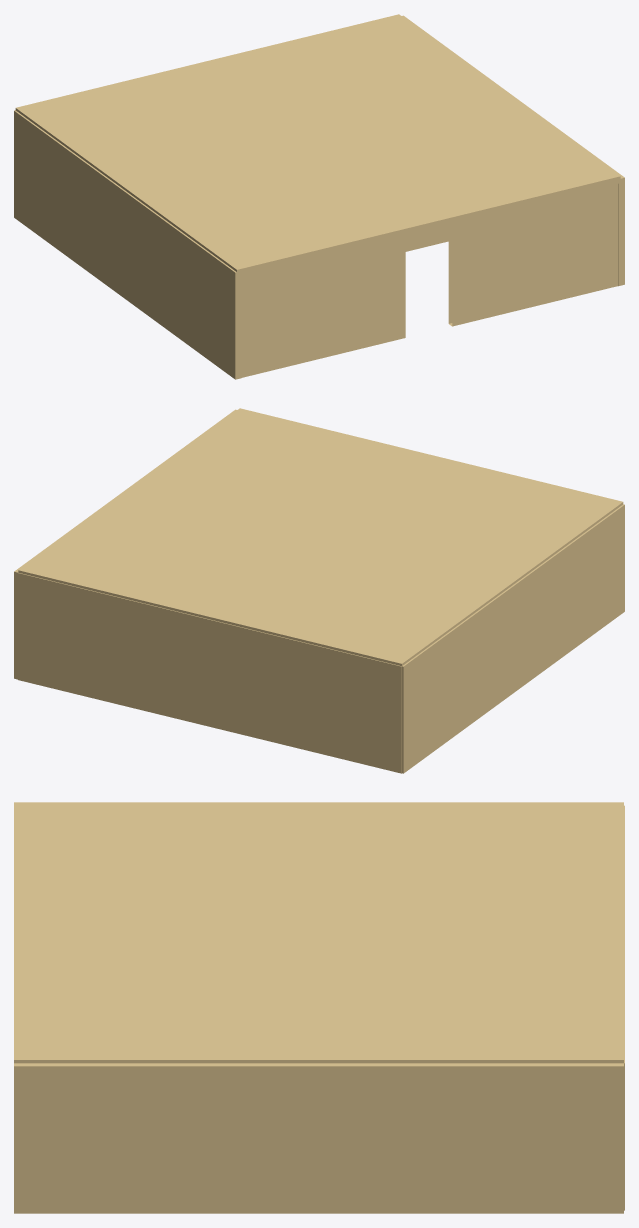
File: basic_floor.glb
The picture shows the model from 3 angles, top to bottom: view 1: azimuth 30°, elevation 25°; view 2: azimuth 150°, elevation 25°; view 3: azimuth 270°, elevation 25°; orthographic projection. The views are drawn at different scales.
Parts seen in each view (by area): view 1: Cube.005, Cube, Cube.004, Cube.003; view 2: Cube.005, Cube.002, Cube.004, Cube.003; view 3: Cube.005, Cube.003.
Boxes of the visible parts, box(x1,y1,x2,y2) form: Cube.005: box(15, 14, 620, 276); Cube: box(241, 183, 618, 377); Cube.004: box(14, 110, 241, 379); Cube.003: box(402, 15, 624, 286); Cube.005: box(18, 408, 623, 666); Cube.002: box(18, 573, 401, 773); Cube.004: box(402, 504, 624, 773); Cube.003: box(14, 409, 236, 679); Cube.005: box(14, 802, 623, 1063); Cube.003: box(14, 1063, 623, 1213).
Size of the model in its own units: 15.24 by 4.09 by 15.03.
